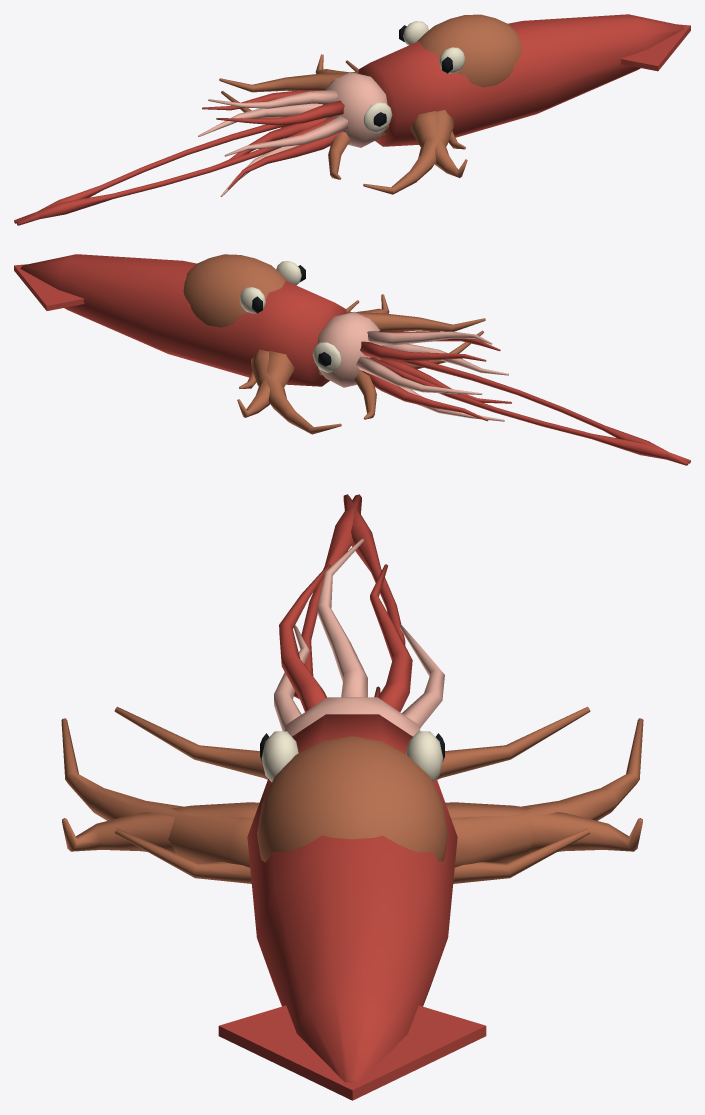
File: cephalopods.glb
The picture shows the model from 3 angles, top to bottom: view 1: azimuth 30°, elevation 25°; view 2: azimuth 150°, elevation 25°; view 3: azimuth 270°, elevation 25°; orthographic projection. The views are drawn at different scales.
Parts seen in each view (by area): view 1: giantsquid, octopus; view 2: giantsquid, octopus; view 3: giantsquid, octopus.
Boxes of the visible parts, box(x1,y1,x2,y2) form: giantsquid: box(14, 14, 690, 225); octopus: box(219, 14, 521, 194); giantsquid: box(14, 254, 690, 465); octopus: box(183, 254, 485, 434); giantsquid: box(218, 494, 486, 1100); octopus: box(61, 706, 643, 883).
Bounding box in the file's own units: 1.63 × 0.2496 × 0.6089.
